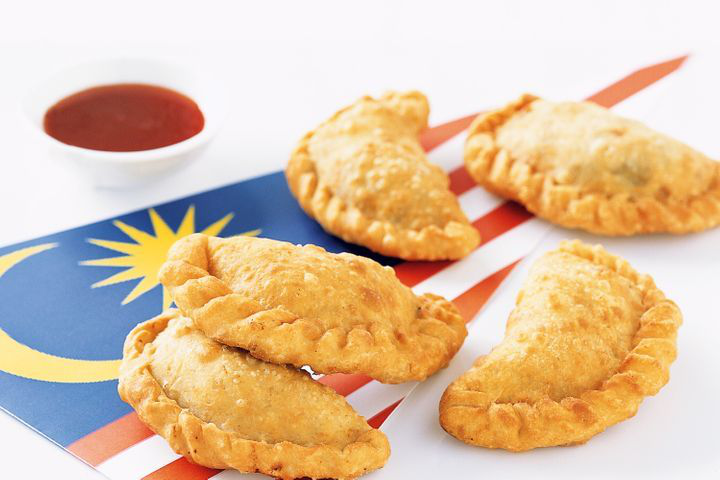Curry Puff: (440, 239, 684, 455), (162, 208, 459, 381), (113, 308, 394, 476), (465, 90, 719, 238), (282, 82, 484, 268)
